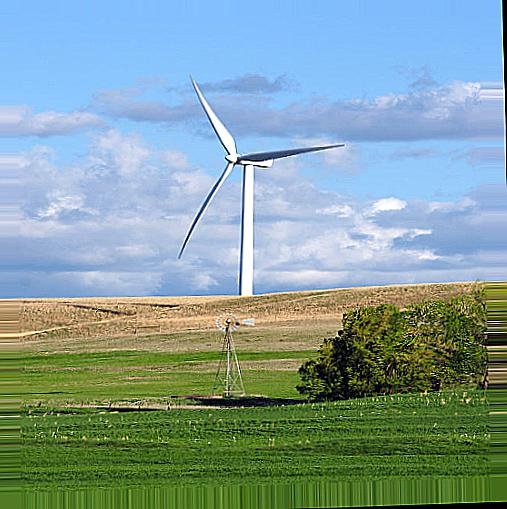wind turbine: (175, 74, 352, 296)
